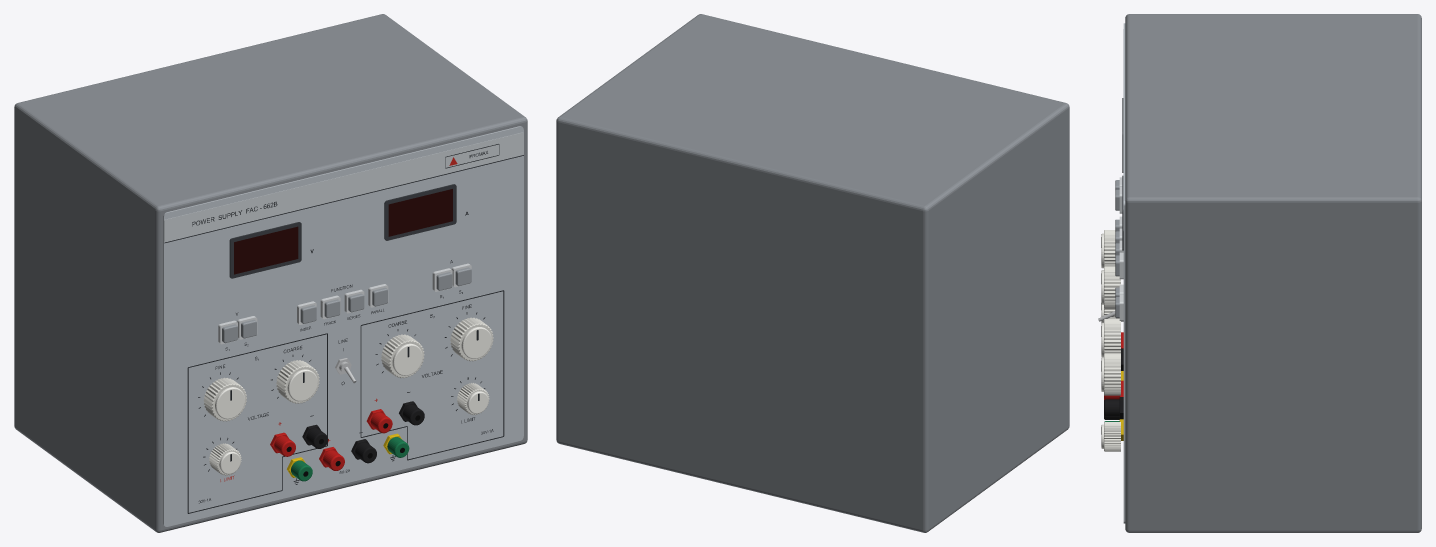
The model's file is fac662b.glb.
3 views of the same model, side by side, from view 1: azimuth 30°, elevation 25°; view 2: azimuth 150°, elevation 25°; view 3: azimuth 270°, elevation 25° (orthographic). The views are drawn at different scales.
Parts seen in each view (by area): view 1: FAC_Caja, FAC_Panel, FAC_Franja, FAC_Rotulos_FAC_Tinta, FAC_Disp_A, FAC_Disp_V, FAC_Bisel_A, FAC_Bisel_V, FAC_Knob_S1_Coarse_tapa, FAC_Knob_S2_Coarse_tapa, FAC_Knob_S1_Fine_tapa, FAC_Knob_S2_Fine_tapa (+4 smaller); view 2: FAC_Caja; view 3: FAC_Caja, FAC_Panel, FAC_Knob_S2_Fine_falda, FAC_Knob_S2_Coarse_falda, FAC_Knob_S1_Coarse_falda, FAC_Knob_S2_Ilim_falda, FAC_Knob_S1_Fine_falda.
Boxes of the visible parts, x1,y1,x2,y2 form: FAC_Caja: (14, 14, 527, 532); FAC_Panel: (163, 126, 523, 526); FAC_Franja: (164, 132, 523, 242); FAC_Rotulos_FAC_Tinta: (164, 144, 523, 513); FAC_Disp_A: (388, 189, 452, 236); FAC_Disp_V: (234, 226, 298, 274); FAC_Bisel_A: (384, 184, 456, 240); FAC_Bisel_V: (229, 222, 301, 278); FAC_Knob_S1_Coarse_tapa: (287, 369, 317, 401); FAC_Knob_S2_Coarse_tapa: (392, 343, 422, 375); FAC_Knob_S1_Fine_tapa: (215, 387, 245, 419); FAC_Knob_S2_Fine_tapa: (461, 327, 491, 358); FAC_Caja: (556, 14, 1069, 532); FAC_Caja: (1125, 14, 1421, 532); FAC_Panel: (1123, 23, 1125, 523); FAC_Knob_S2_Fine_falda: (1104, 353, 1120, 395); FAC_Knob_S2_Coarse_falda: (1104, 319, 1120, 353); FAC_Knob_S1_Coarse_falda: (1104, 266, 1120, 308); FAC_Knob_S2_Ilim_falda: (1104, 422, 1120, 451); FAC_Knob_S1_Fine_falda: (1104, 230, 1115, 266).
Size of the model in its own units: 0.312 by 0.262 by 0.2292.
